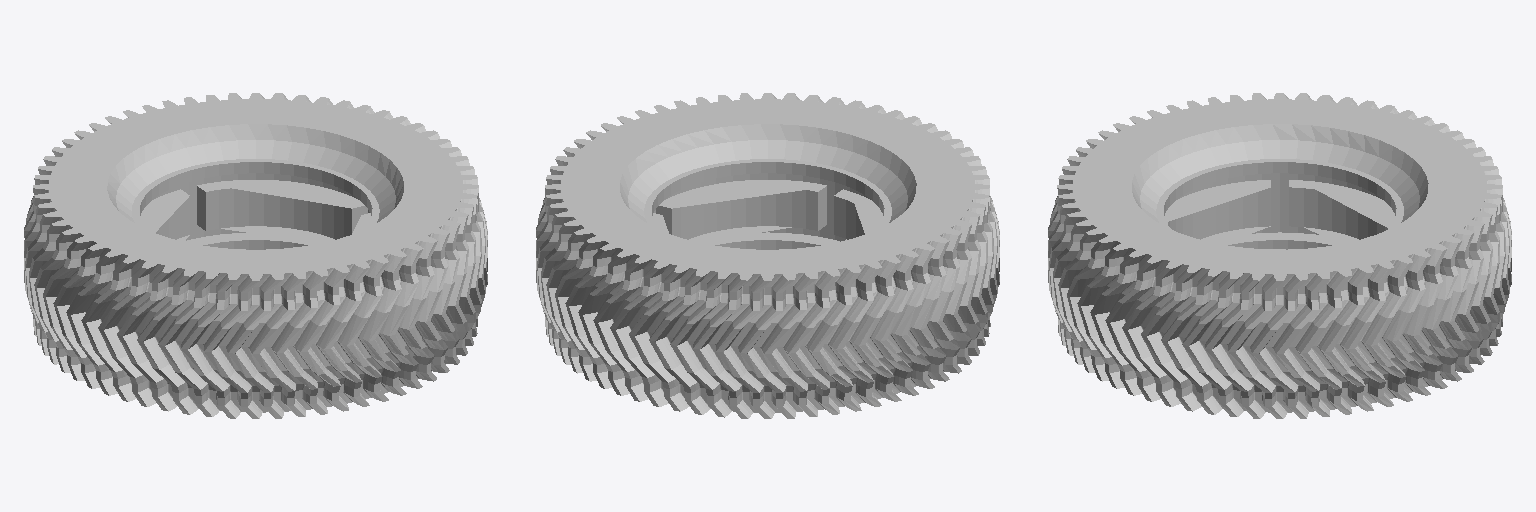
File: Tyre30-50-17-B.obj
The picture shows the model from 3 angles: view 1: azimuth 30°, elevation 25°; view 2: azimuth 150°, elevation 25°; view 3: azimuth 270°, elevation 25°; orthographic projection.
Parts seen in each view (by area): view 1: Mesh1 Model; view 2: Mesh1 Model; view 3: Mesh1 Model.
Part boxes in pixels (left/top/right/bottom): Mesh1 Model: left=24, top=93, right=487, bottom=418; Mesh1 Model: left=536, top=93, right=999, bottom=418; Mesh1 Model: left=1048, top=93, right=1511, bottom=418.
Bounding box in the file's own units: 51.66 × 17 × 51.66.